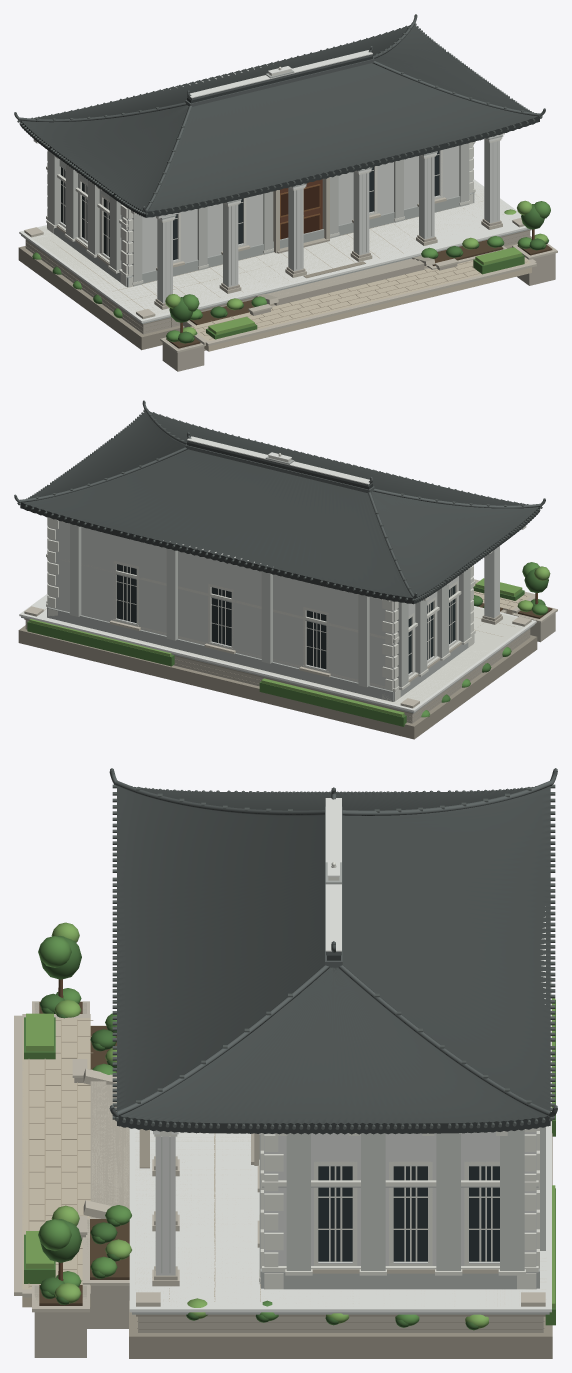
3 views of the same model, one above another, from view 1: azimuth 30°, elevation 25°; view 2: azimuth 150°, elevation 25°; view 3: azimuth 270°, elevation 25° (orthographic). The views are drawn at different scales.
Bounding box in the file's own units: 1.15 × 0.5335 × 0.7809.
